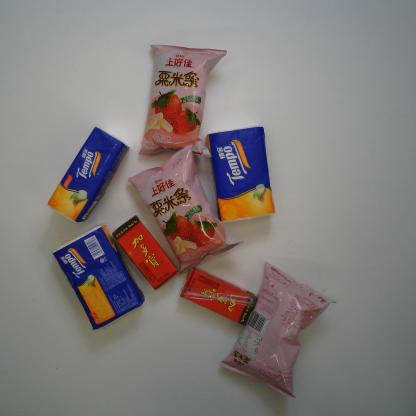Drink: (112, 214, 179, 291), (178, 266, 258, 326)
Puffed Food: (218, 261, 337, 400), (127, 143, 245, 276), (138, 43, 228, 159)
Tissue: (51, 223, 146, 331), (46, 125, 130, 224), (204, 124, 276, 224)
